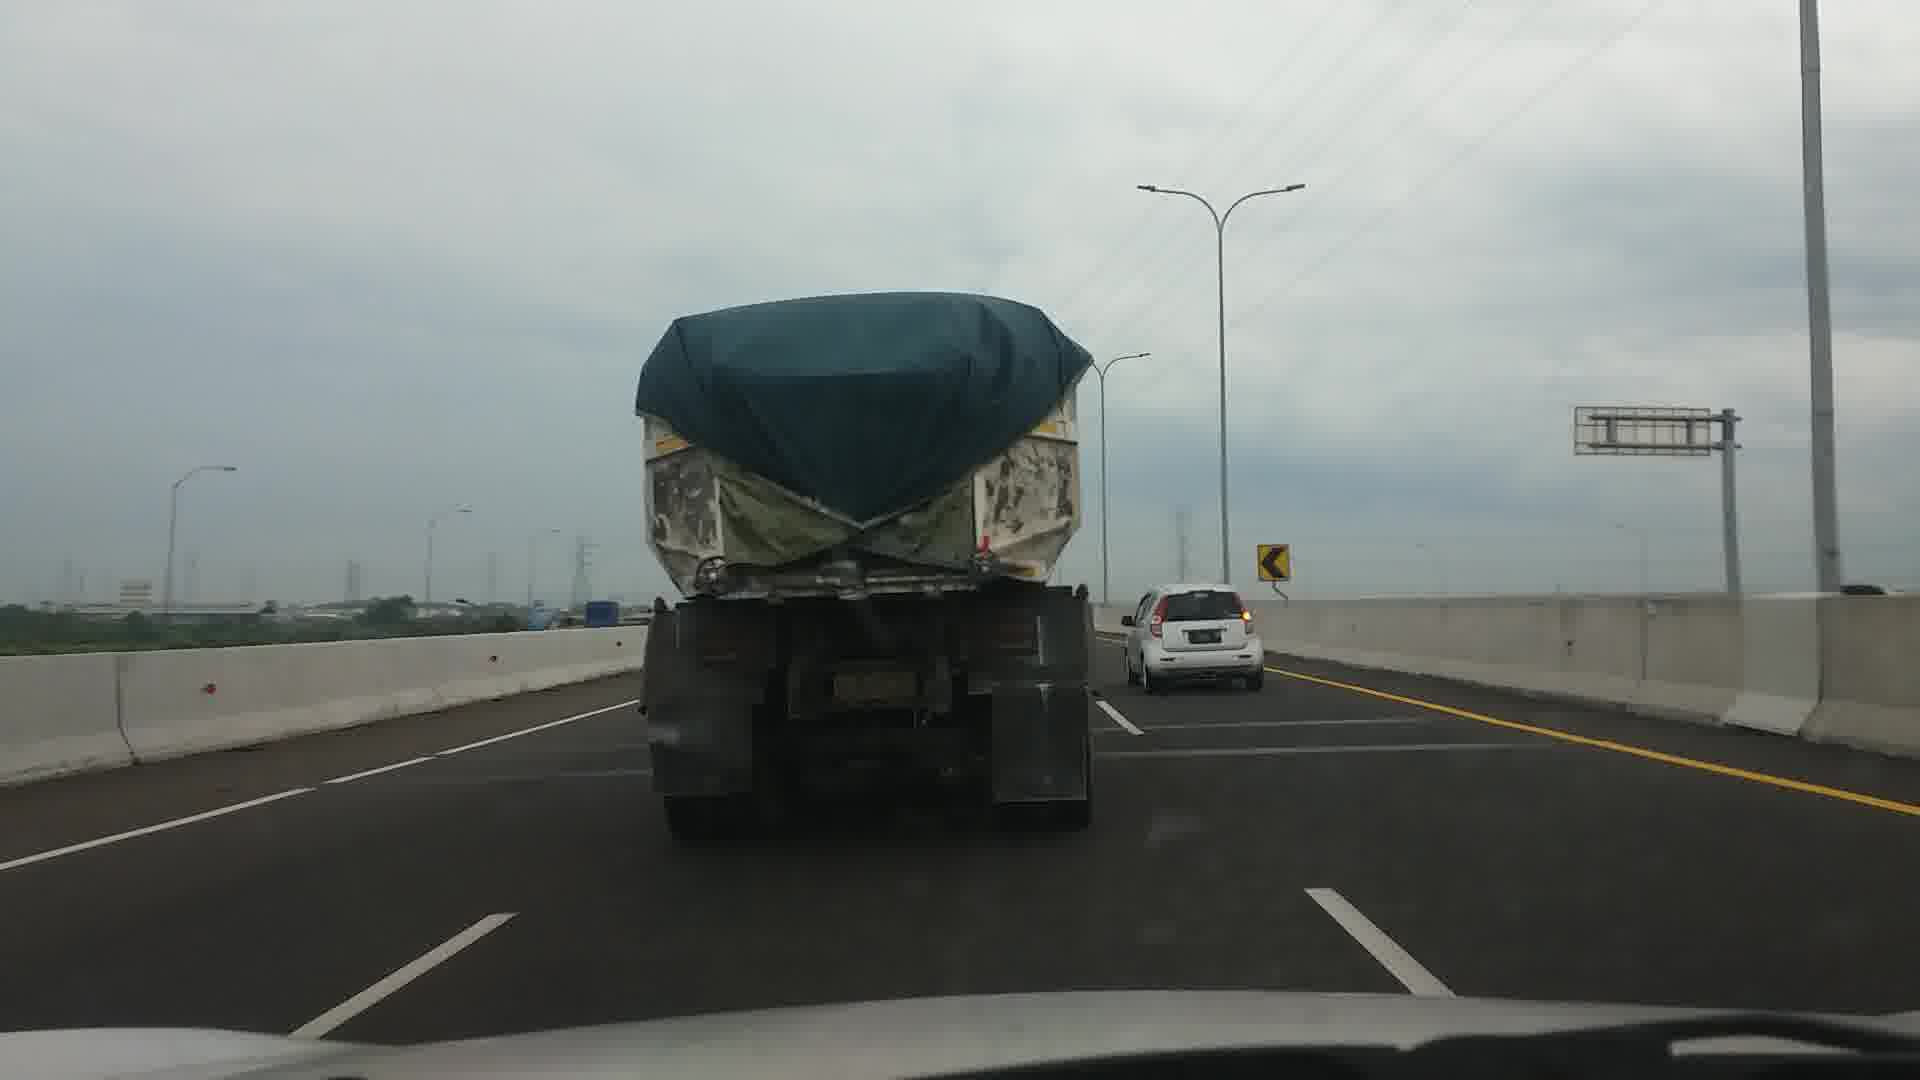plate_positive: (833, 671, 918, 700), (1188, 630, 1221, 644)
